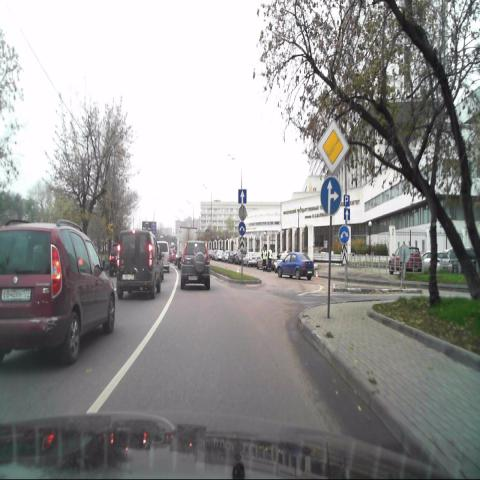4_2_3: (338, 225, 350, 244)
